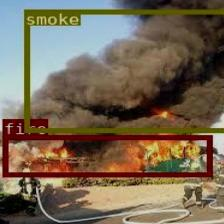fire: (2, 134, 211, 176)
smoke: (23, 9, 224, 131)
